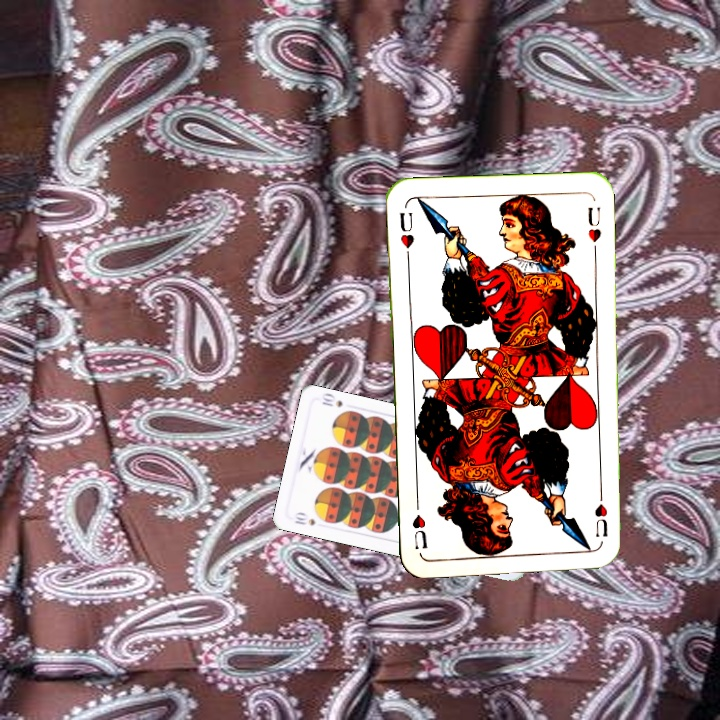HU: (395, 208, 417, 262), (590, 499, 610, 540)
S10: (290, 508, 317, 528)
